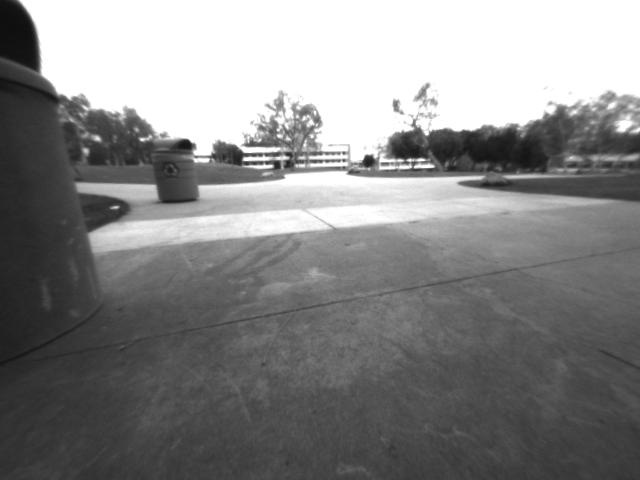trashcan: (2, 2, 117, 363)
